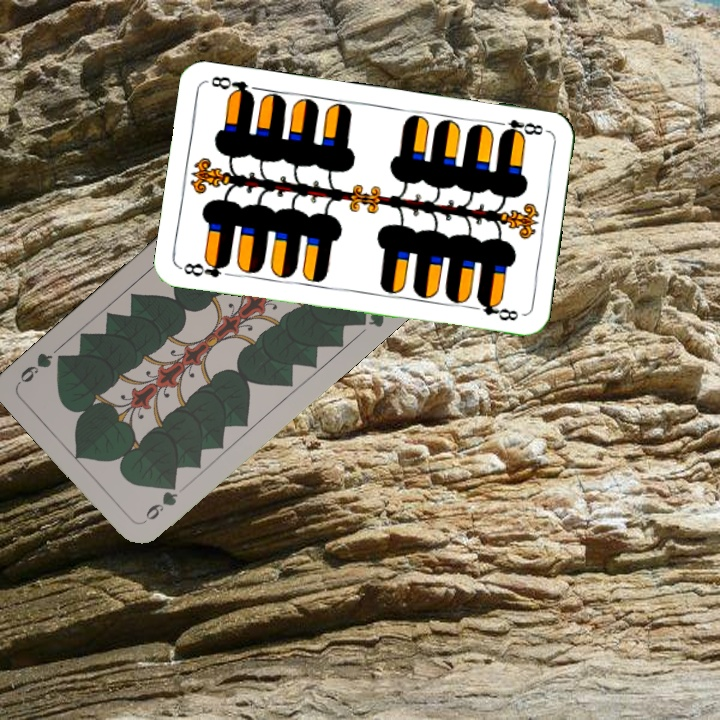E8: (491, 115, 550, 141), (178, 255, 232, 281)
G9: (139, 477, 181, 526)
